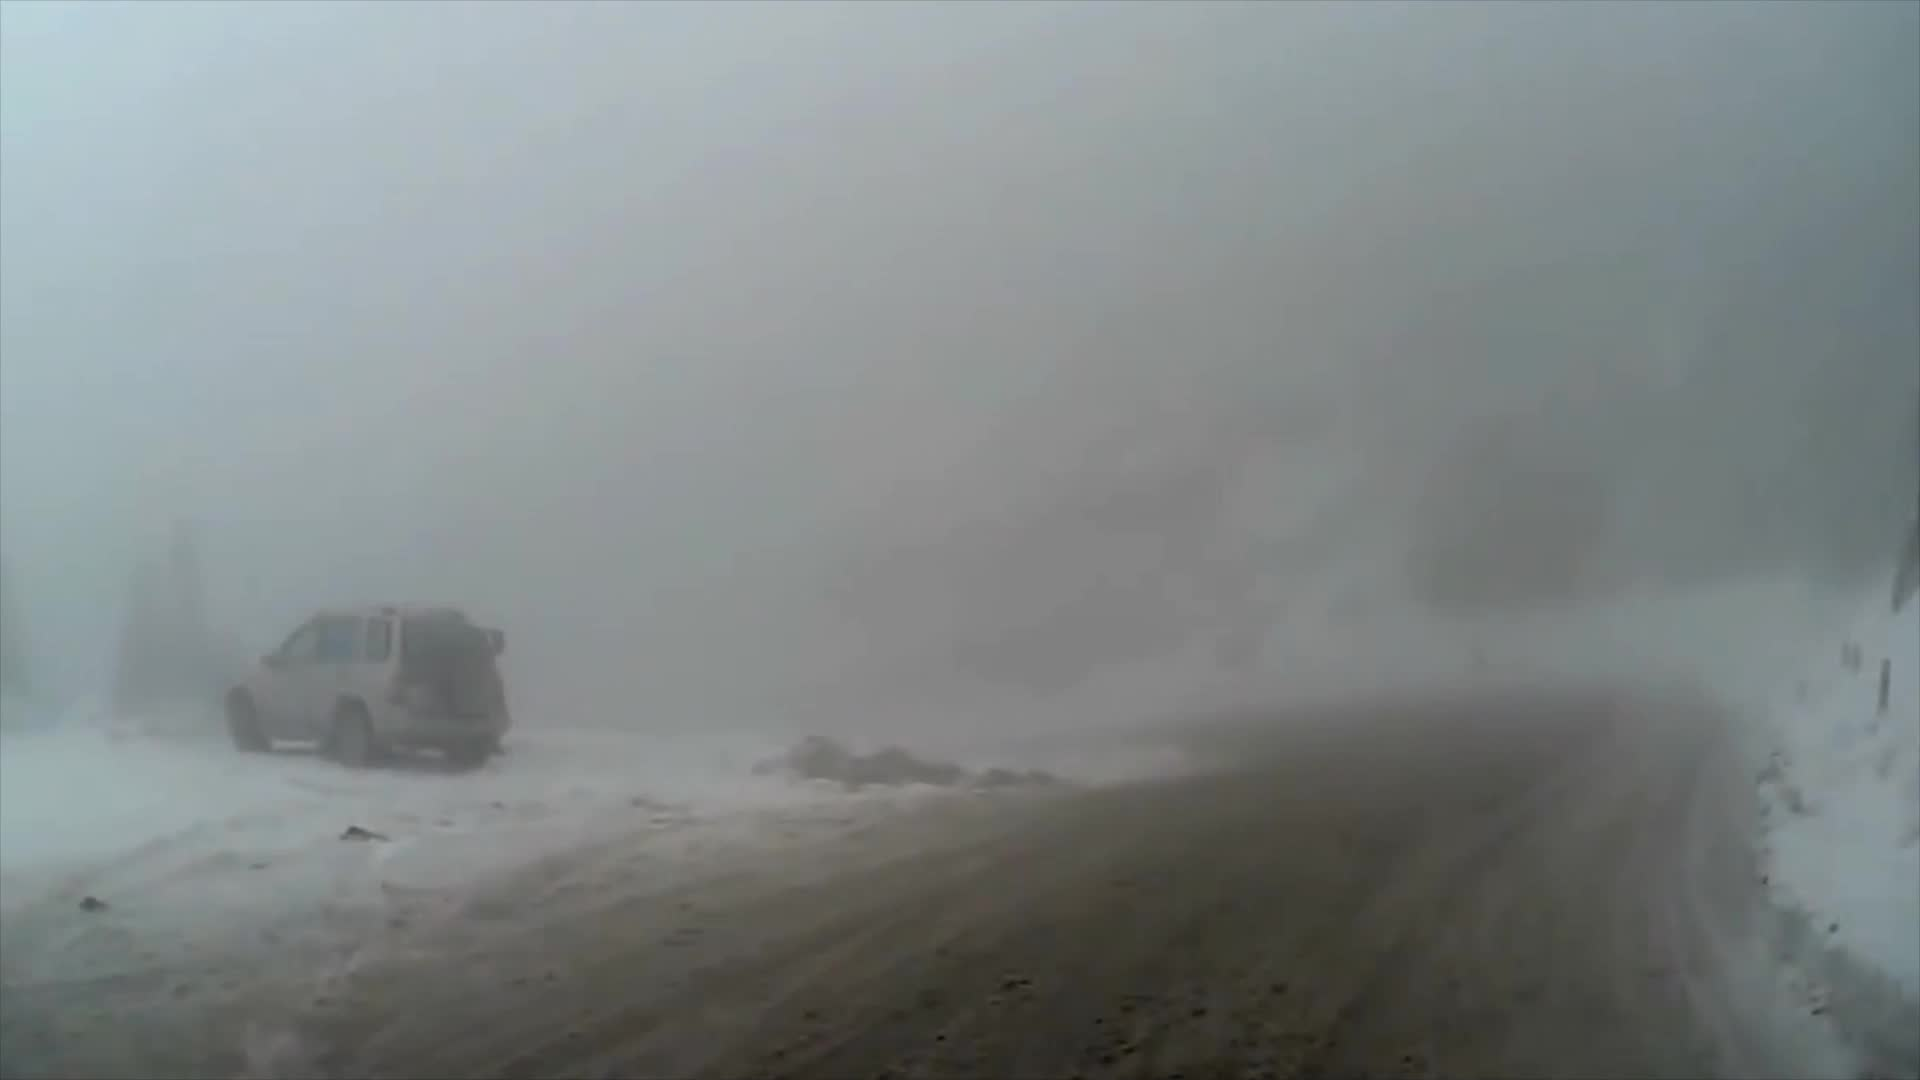vehicle: (223, 599, 502, 767)
